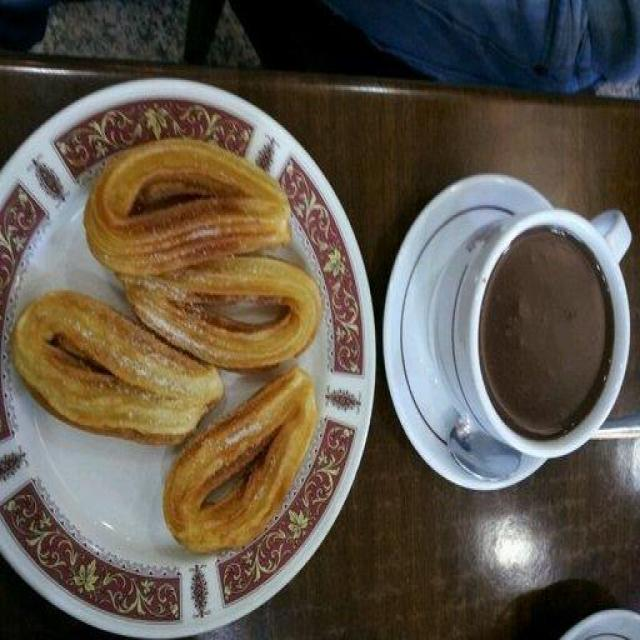food_waste: (87, 155, 316, 359), (17, 295, 213, 445), (168, 374, 324, 549)
